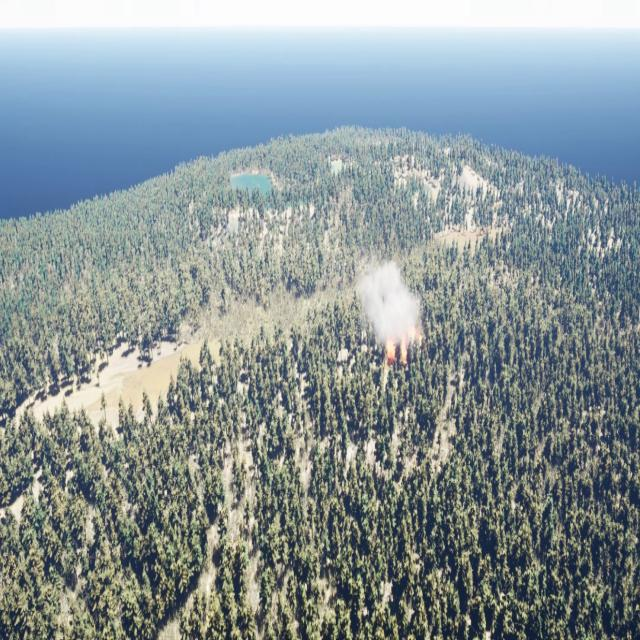fire: (384, 332, 419, 363)
smoke: (354, 263, 424, 344)
